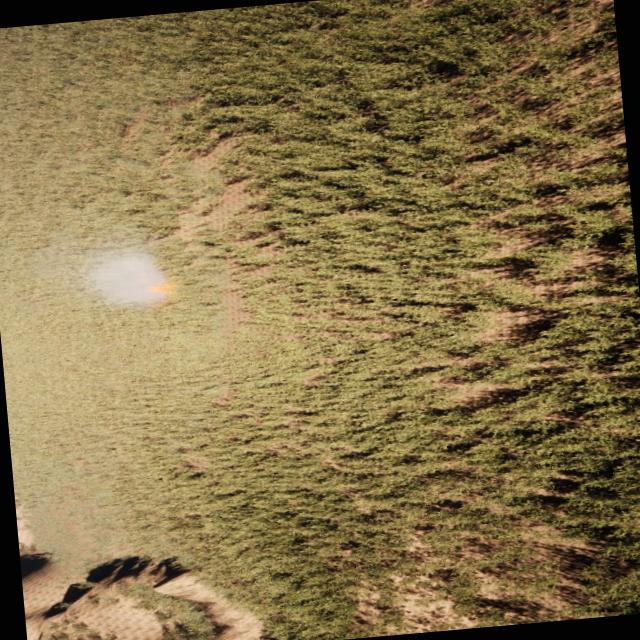fire: (140, 281, 168, 295)
smoke: (73, 243, 174, 312)
